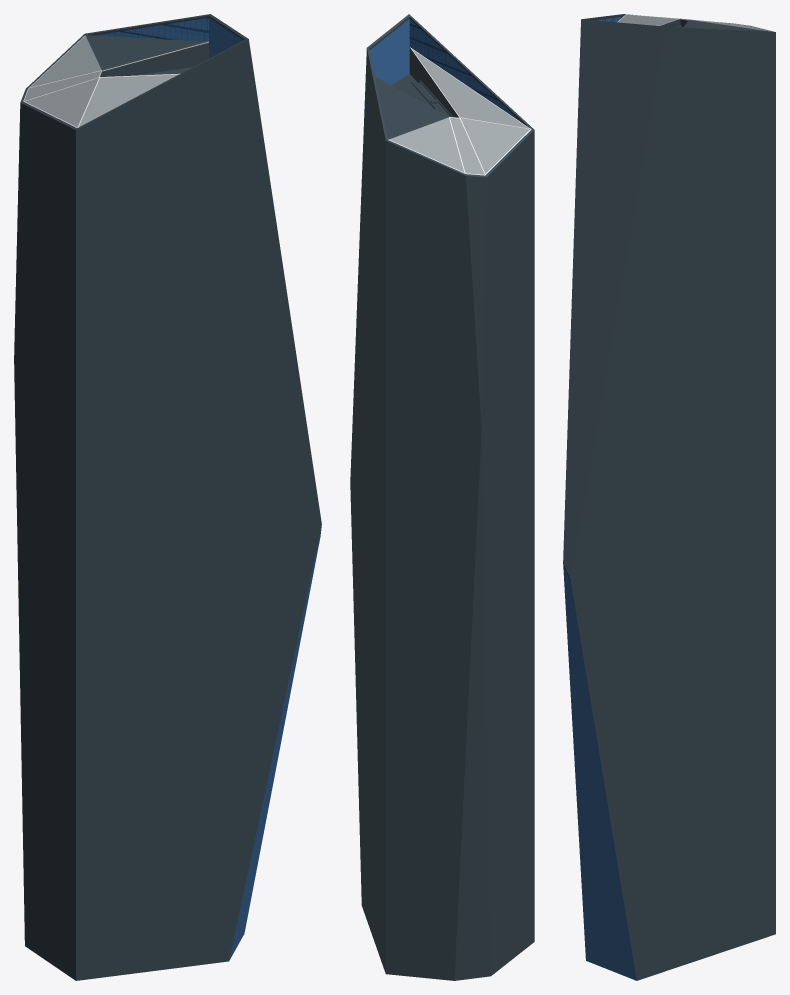
Rendered from oct_tower_dc36d710.glb.
3 views of the same model, side by side, from view 1: azimuth 30°, elevation 25°; view 2: azimuth 150°, elevation 25°; view 3: azimuth 270°, elevation 25° (orthographic). The views are drawn at different scales.
Parts seen in each view (by area): view 1: oct_tower_dc36d710; view 2: oct_tower_dc36d710; view 3: oct_tower_dc36d710.
Part boxes in pixels (x1,y1,x2,y2): oct_tower_dc36d710: (14,14,321,980); oct_tower_dc36d710: (350,14,534,980); oct_tower_dc36d710: (563,14,775,980).
Size of the model in its own units: 75.76 by 300 by 60.87.
1 material, 1 textured.
